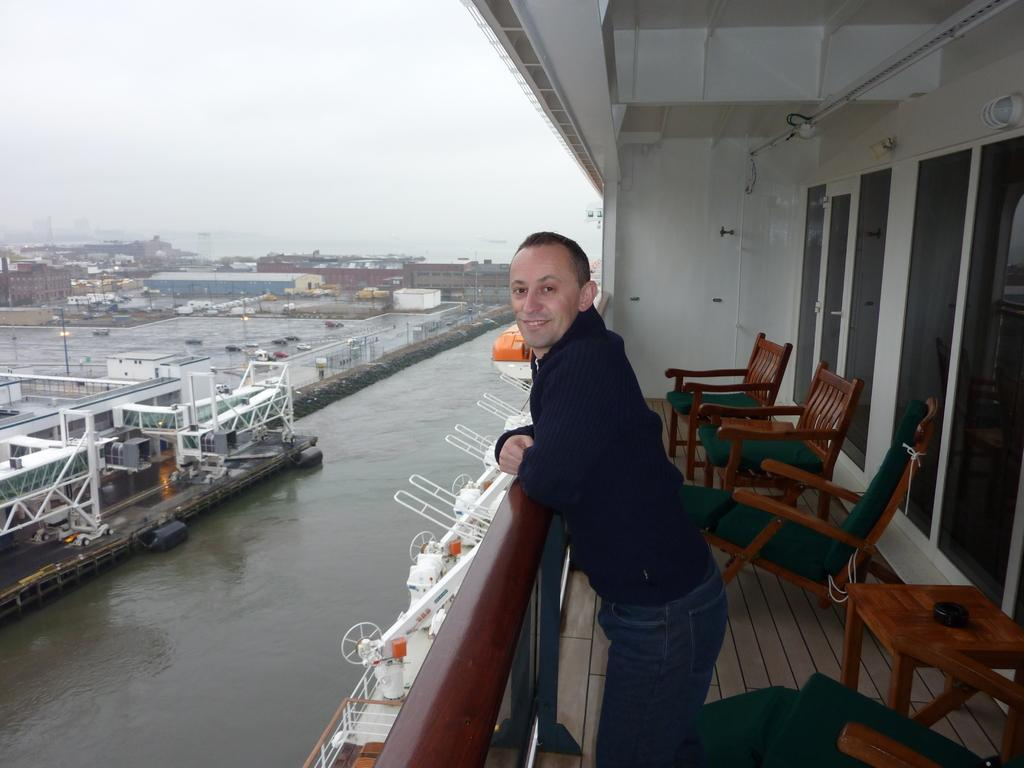Chair: (696, 395, 938, 611), (693, 670, 1020, 767), (687, 359, 864, 523), (664, 331, 793, 480)
